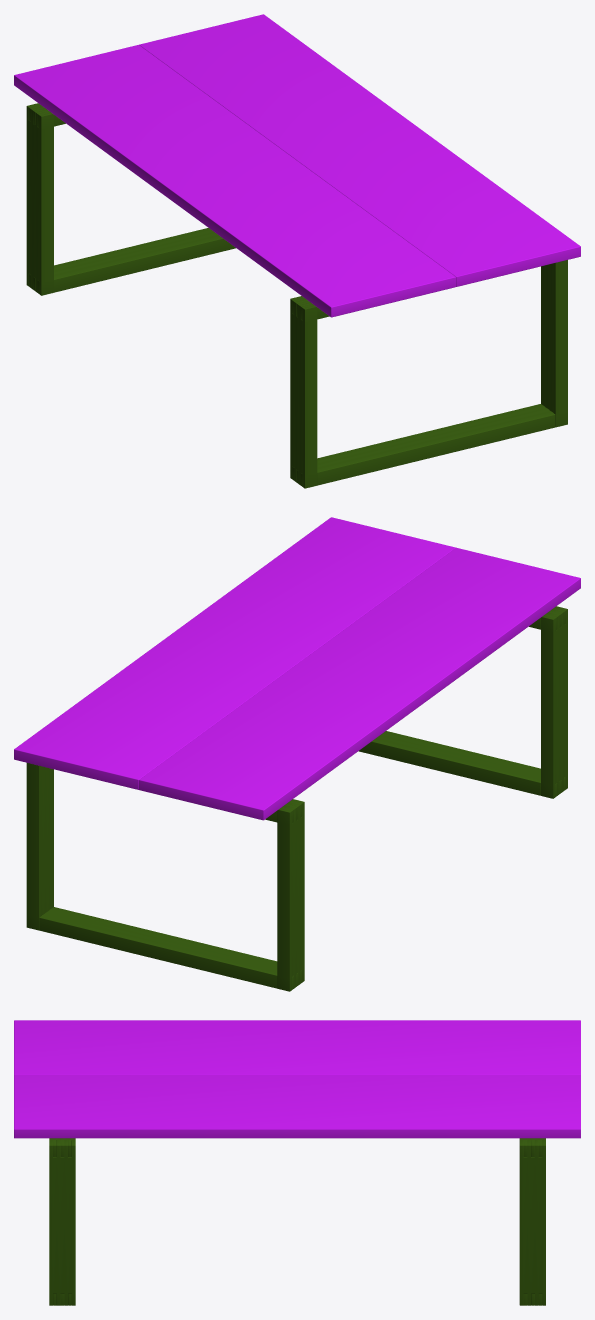
Rendered from table.fbx.
3 views of the same model, one above another, from view 1: azimuth 30°, elevation 25°; view 2: azimuth 150°, elevation 25°; view 3: azimuth 270°, elevation 25° (orthographic). The views are drawn at different scales.
Visible parts, largest first — view 1: table; view 2: table; view 3: table.
Boxes of the visible parts, <box> form: table: <box>14,14,580,488</box>; table: <box>14,517,580,991</box>; table: <box>14,1020,580,1305</box>.
Size of the model in its own units: 105 by 74.26 by 220.
